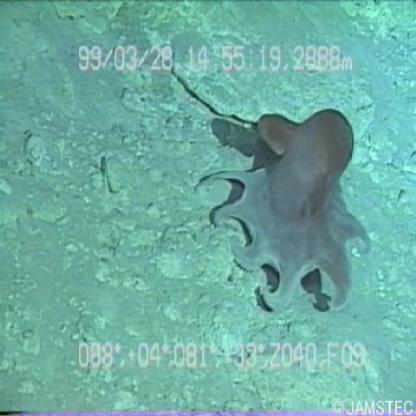Bio: (193, 103, 376, 319)
